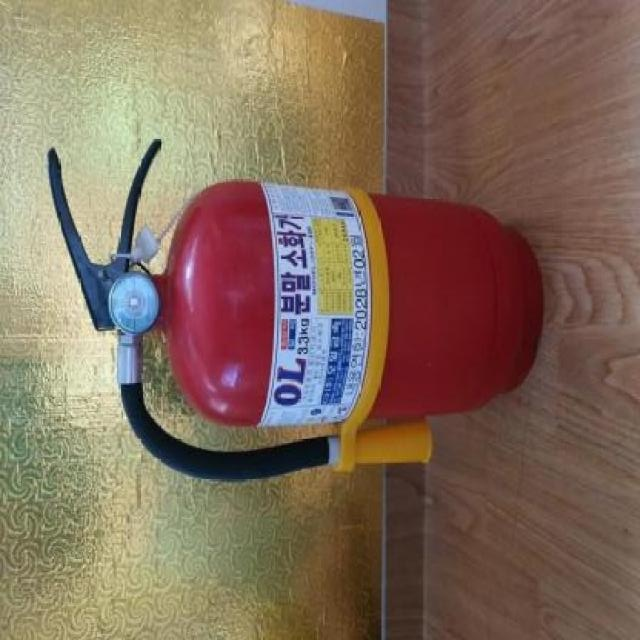fire extinguisher: (47, 139, 545, 481)
